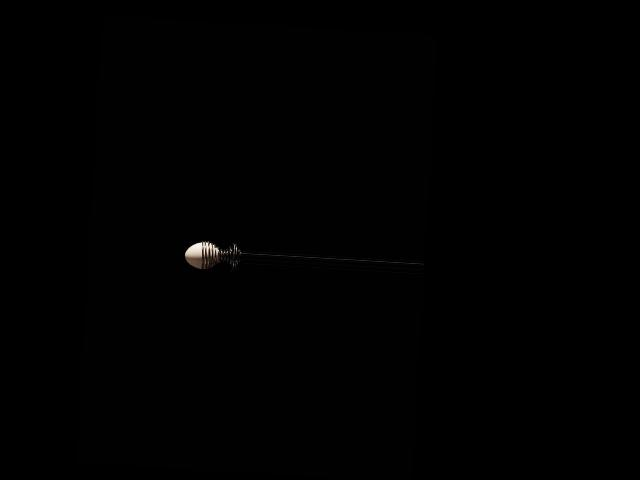egg: (184, 240, 219, 269)
